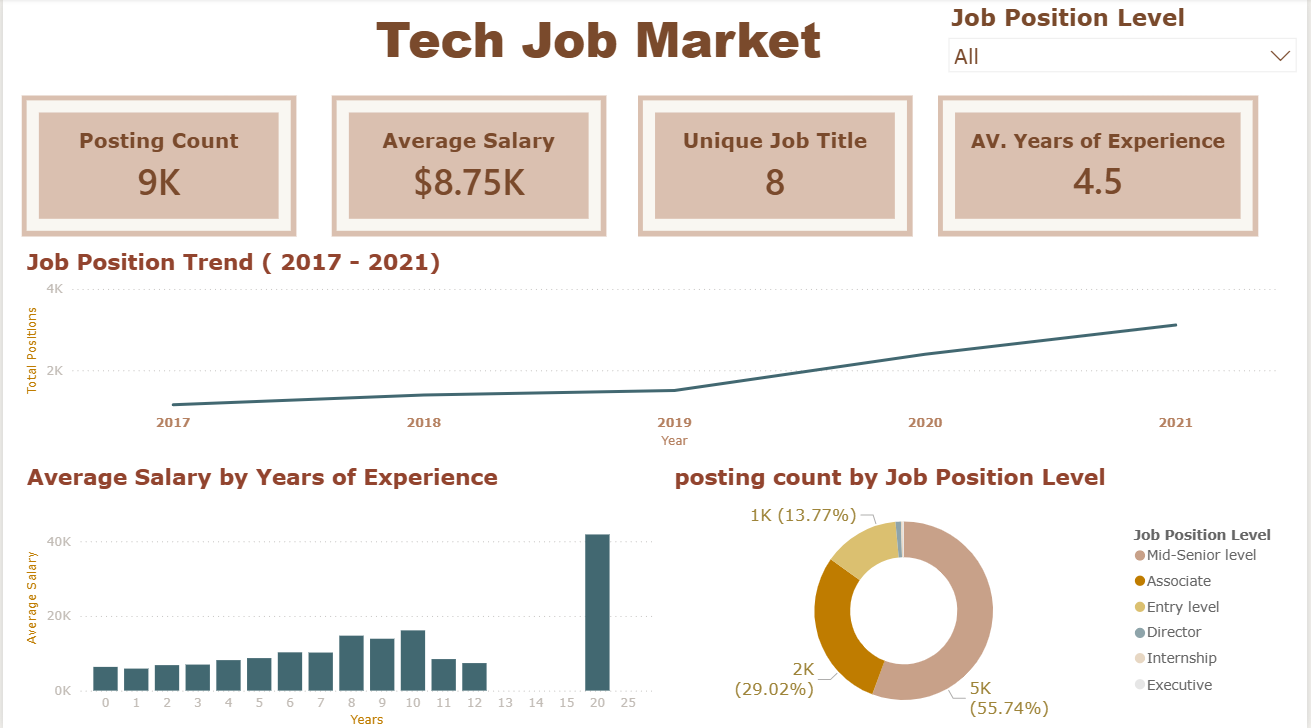

What the dashboard file says about the page in this screenshot:
{"tool":"powerbi","page":{"name":"1","canvas":[1280,720],"ordinal":0},"visuals":[{"type":"textbox","box":[305.9,0,574.2,85.1],"z":0},{"type":"cardVisual","fields":{"Data":["Job skills.posting count"]},"box":[18.8,95.2,269.8,138.5],"z":1000},{"type":"cardVisual","fields":{"Data":["Count(job_postings.Job Title)"]},"box":[623.3,95.2,269.8,138.5],"z":2000},{"type":"cardVisual","fields":{"Data":["job_postings.Average"]},"box":[323.2,95.2,269.8,138.5],"z":3000},{"type":"cardVisual","fields":{"Data":["Avg(job_postings.Years of Experience)"]},"box":[917.6,95.2,314.5,138.5],"z":4000},{"type":"lineChart","title":"Job Position Trend ( 2017 - 2021)","fields":{"Category":["job_postings.Job Posting Date.Variation.Date Hierarchy.Year","job_postings.Job Posting Date.Variation.Date Hierarchy.Quarter","job_postings.Job Posting Date.Variation.Date Hierarchy.Month","job_postings.Job Posting Date.Variation.Date Hierarchy.Day"],"Y":["CountNonNull(job_postings.Job Position Level)"]},"box":[18.8,245.3,1236.4,200.5],"z":5000},{"type":"donutChart","fields":{"Category":["job_postings.Job Position Level"],"Y":["Job skills.posting count"]},"box":[653.6,455.9,601.6,264],"z":6000},{"type":"slicer","fields":{"Values":["job_postings.Job Position Level","job_postings.Job Title"]},"box":[917.6,0,362.1,85.1],"z":7000},{"type":"clusteredColumnChart","title":"Average Salary by Years of Experience","fields":{"Category":["job_postings.Years of Experience"],"Y":["job_postings.Average"]},"box":[18.8,455.9,624.7,264],"z":8000}]}

Visuals, with their boxes in screenshot pixels (x1, y1, x2, y2), scaled from the page's 1280x720 canvas onto the 1311x728 screenshot:
textbox: left=313, top=0, right=901, bottom=86
cardVisual - Job skills.posting count: left=19, top=96, right=296, bottom=236
cardVisual - Count(job_postings.Job Title): left=638, top=96, right=915, bottom=236
cardVisual - job_postings.Average: left=331, top=96, right=607, bottom=236
cardVisual - Avg(job_postings.Years of Experience): left=940, top=96, right=1262, bottom=236
"Job Position Trend ( 2017 - 2021)" lineChart: left=19, top=248, right=1286, bottom=451
donutChart - job_postings.Job Position Level x Job skills.posting count: left=669, top=461, right=1286, bottom=727
slicer - job_postings.Job Position Level x job_postings.Job Title: left=940, top=0, right=1310, bottom=86
"Average Salary by Years of Experience" clusteredColumnChart: left=19, top=461, right=659, bottom=727
